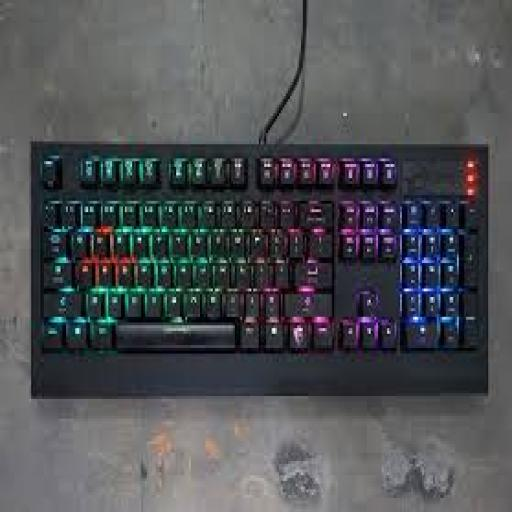KEYBOARD-2: (31, 144, 488, 393)
